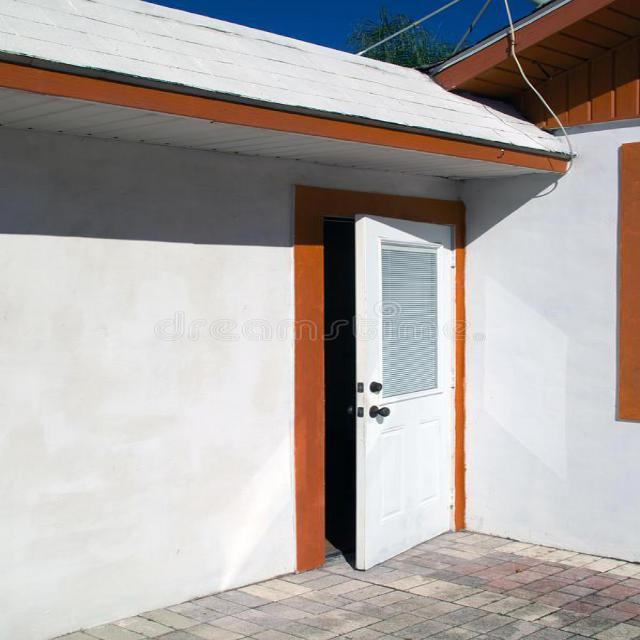semi-open: (280, 175, 486, 578)
